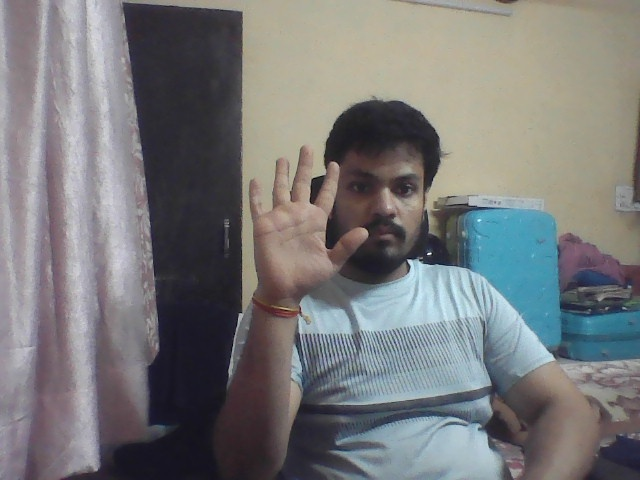Hello: (217, 138, 385, 317)
